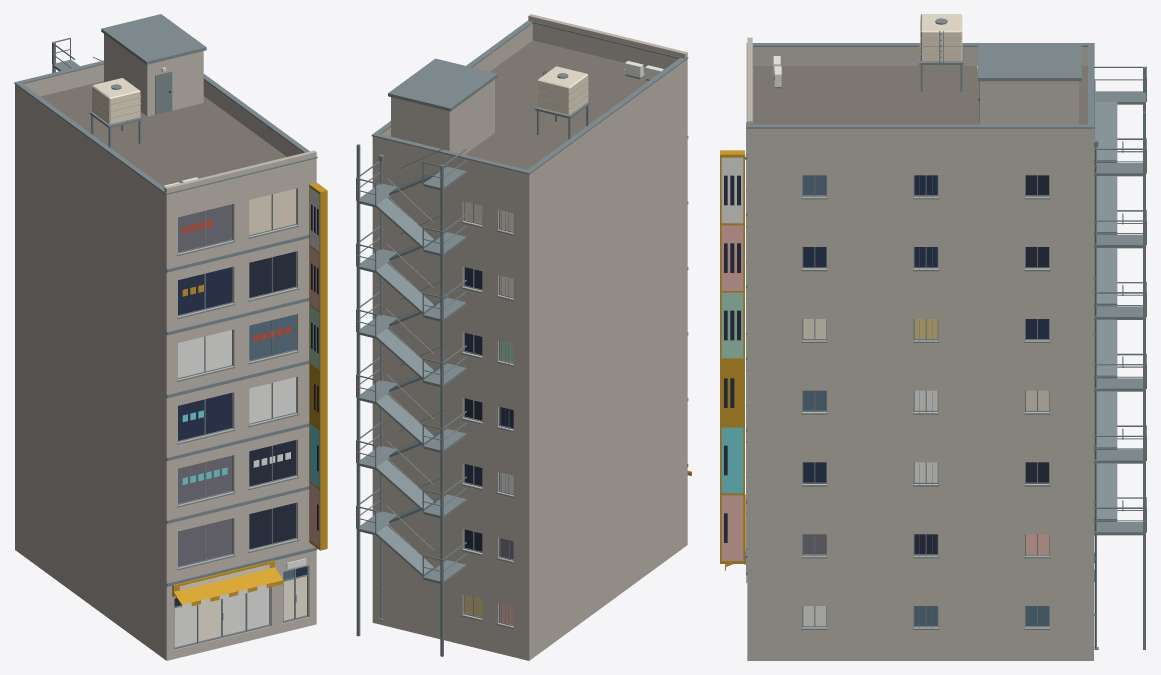
File: tb_tenant_building_7f_01.fbx
3 renders of one model, left to right at view 1: azimuth 30°, elevation 25°; view 2: azimuth 150°, elevation 25°; view 3: azimuth 270°, elevation 25°, orthographic. The views are drawn at different scales.
Parts seen in each view (by area): view 1: tb_tenant_building_7f_01; view 2: tb_tenant_building_7f_01; view 3: tb_tenant_building_7f_01.
Boxes of the visible parts, x1,y1,x2,y2 form: tb_tenant_building_7f_01: [14, 14, 327, 660]; tb_tenant_building_7f_01: [356, 14, 691, 660]; tb_tenant_building_7f_01: [720, 14, 1146, 660].
Size of what is drawn, in the model's own units: 8.09 by 25.75 by 17.24.
Materials: 3 (3 with a texture image).
